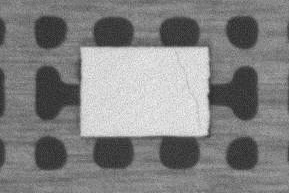DIE_CRACK: (173, 48, 202, 131)
